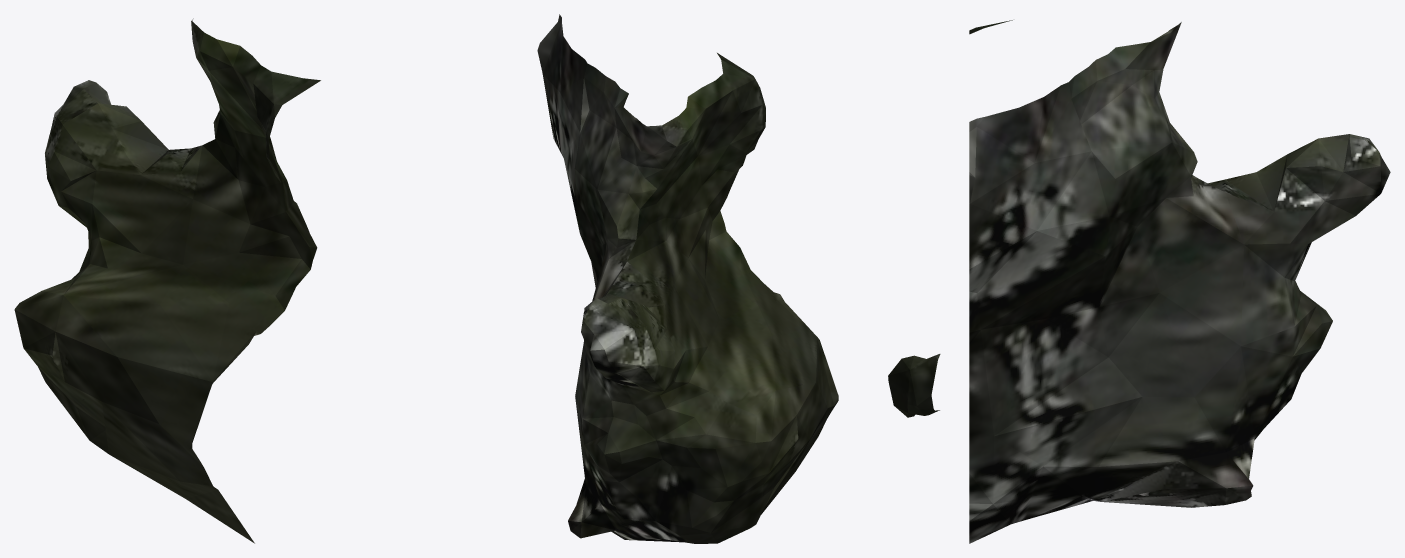
3 renders of one model, left to right at view 1: azimuth 30°, elevation 25°; view 2: azimuth 150°, elevation 25°; view 3: azimuth 270°, elevation 25°, orthographic. The views are drawn at different scales.
Bounding box in the file's own units: 1.47 × 1.51 × 1.17.
3 materials, 3 textured.
